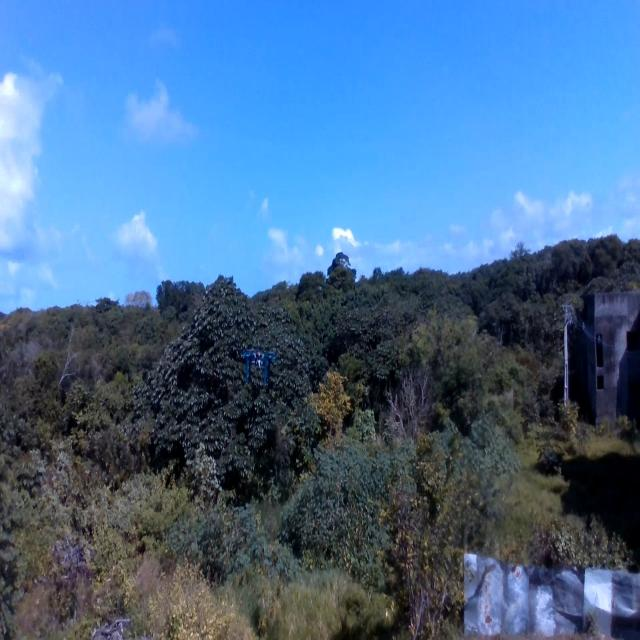-uav-: (231, 336, 284, 402)
